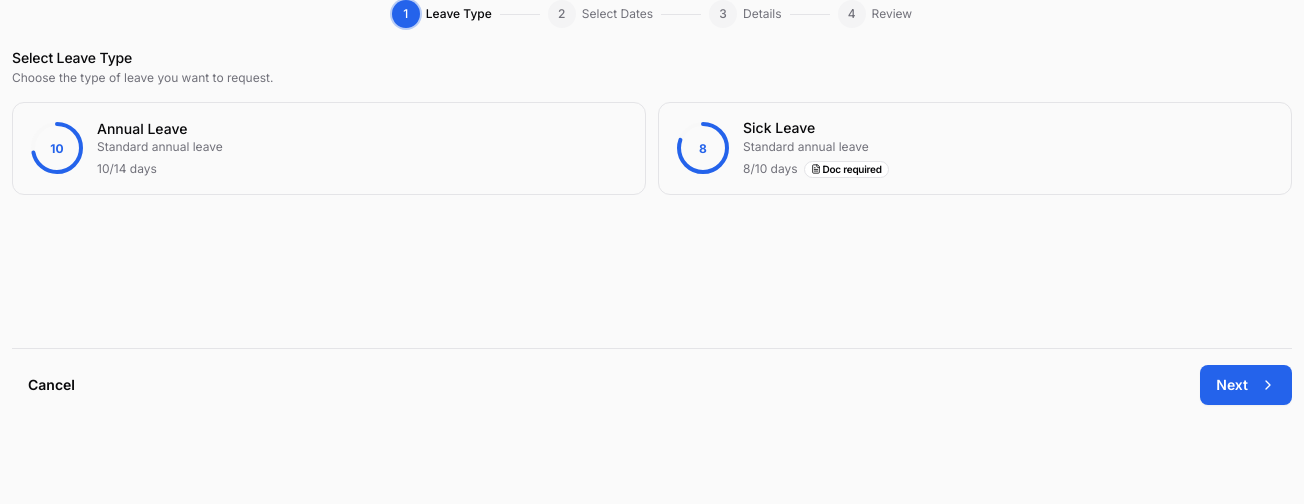
Test: LeaveRequestWizard › Step 3: Details › renders reason textarea
Click the text "Annual Leave" at point(142, 128), box [97,120,187,136]
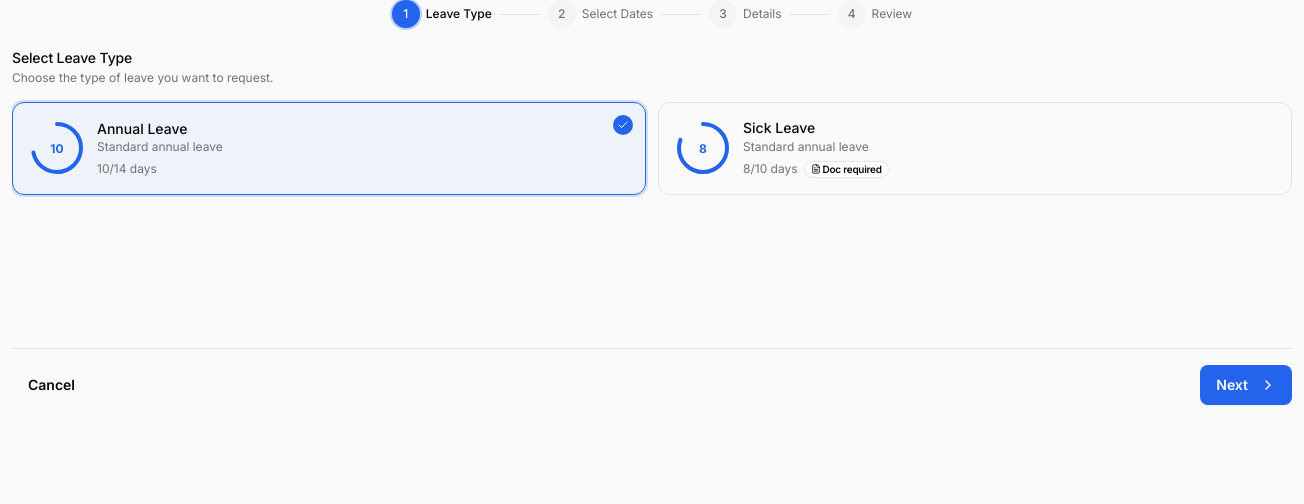
Click the button "Next" at point(1246, 385), box [1200,365,1292,405]
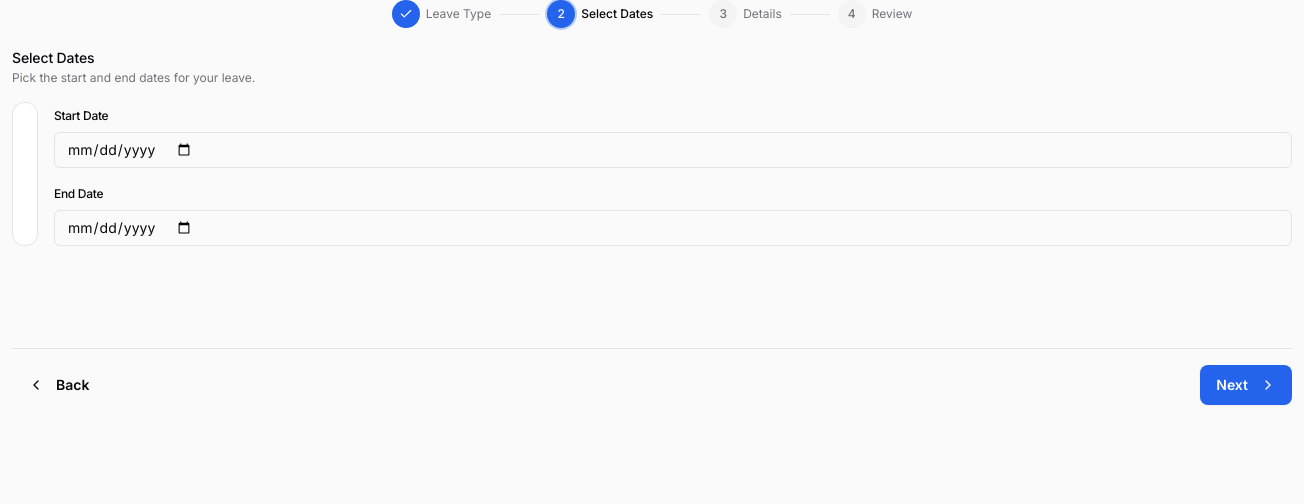
Type "2026-06-01" into the date field below "Start Date" at point(673, 150), box [54,132,1292,168]
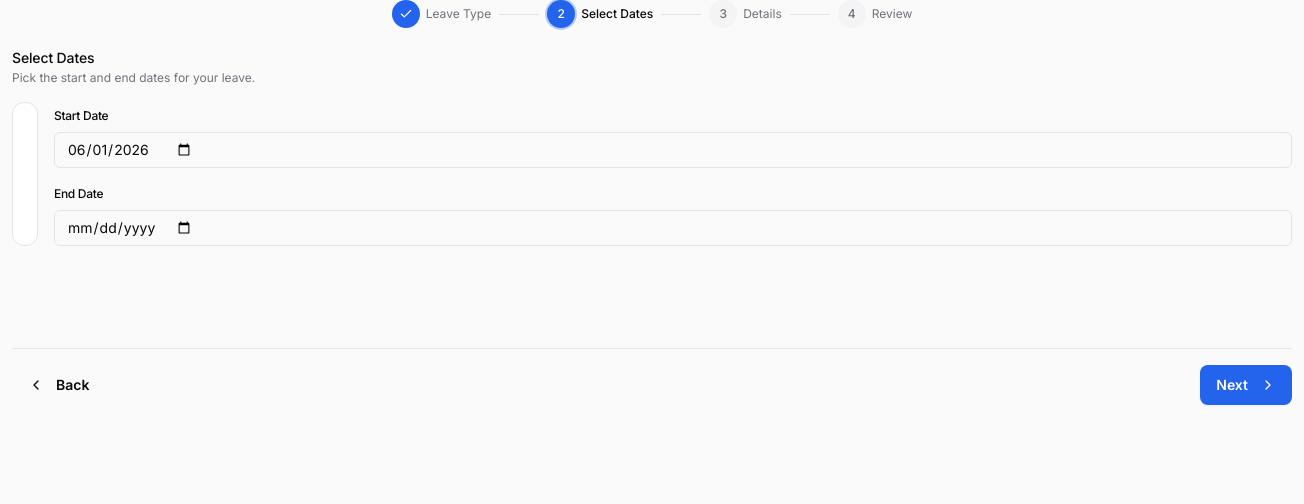
Type "2026-06-03" into the 2nd date field at point(673, 228), box [54,210,1292,246]
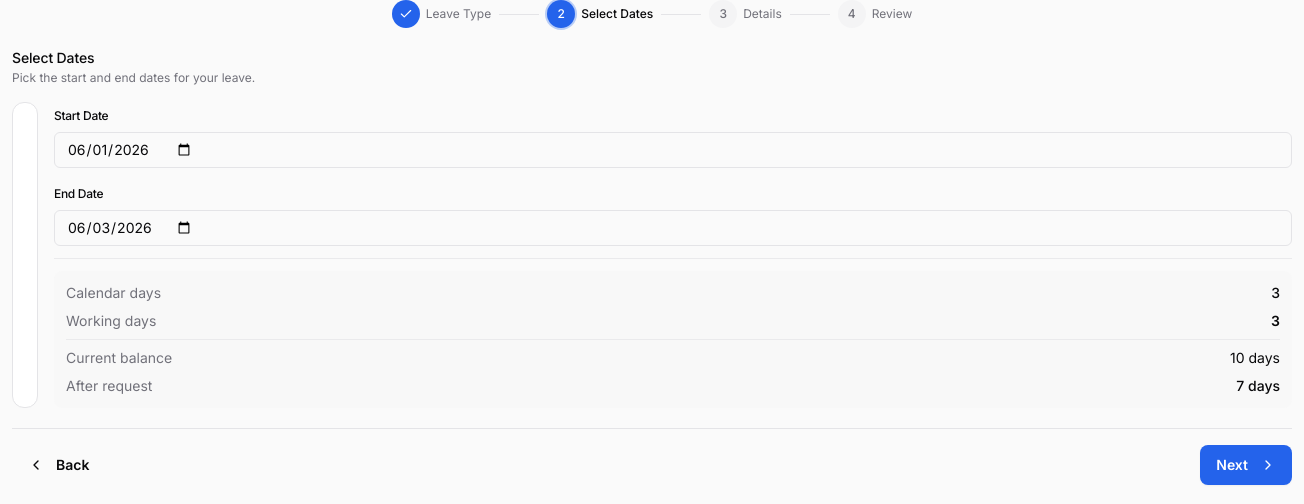
Click the button "Next" at point(1246, 465), box [1200,445,1292,485]
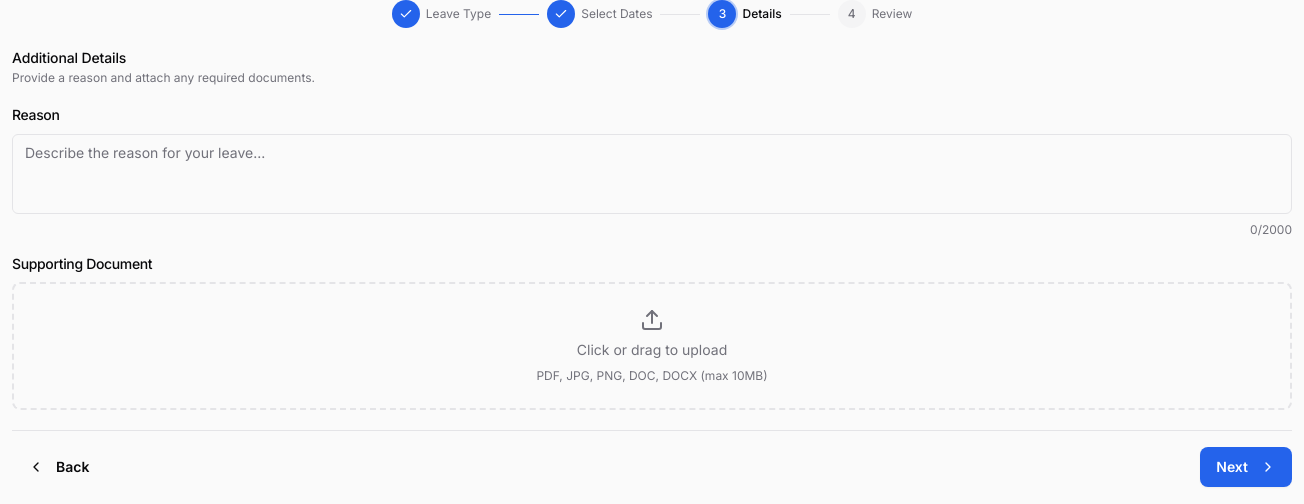
Now the text box with placeholder "Describe the reason for your leave..." is shown, box [12,134,1292,214]
